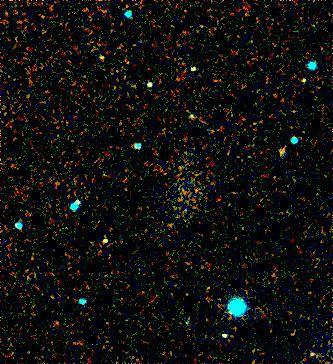star: (175, 103, 205, 133)
